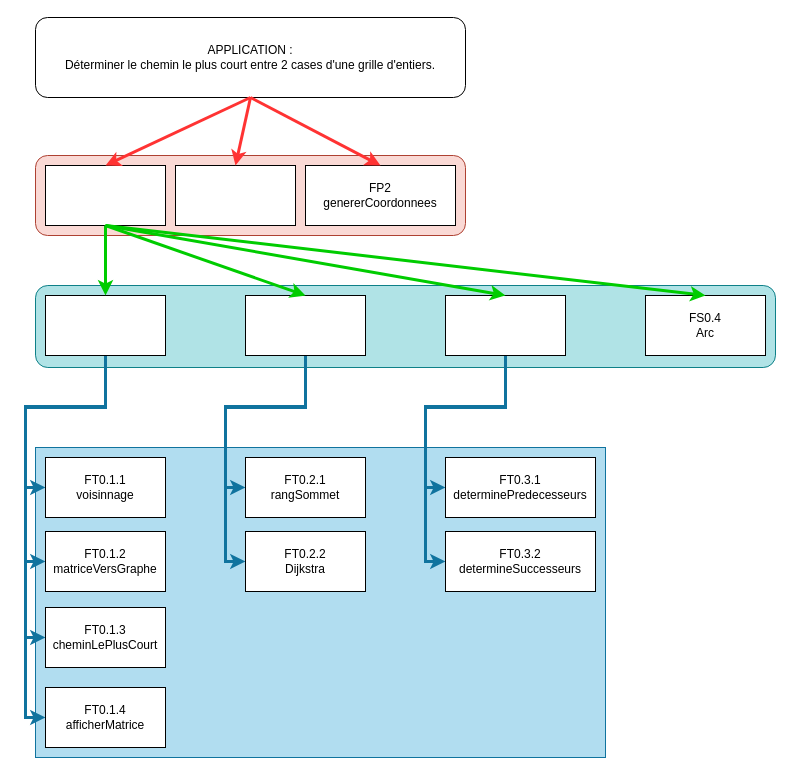
Some shapes in this 793 by 775 pixel diagram are drawn without their labels. The shapes that lost their labels are listed below. From the top down, each one's centre as x and y in pixels, then its label:
At pixel 105 195: "FP0 MAIN".
At pixel 235 195: "FP1 genererMatrice".
At pixel 105 325: "FS0.1 Plateau".
At pixel 305 325: "FS0.2 Graphe".
At pixel 505 325: "FS0.3 Sommet".
